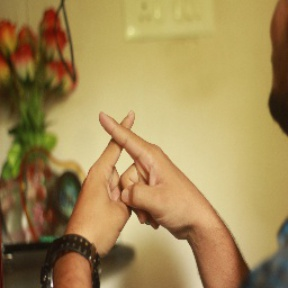X: (66, 95, 189, 209)
